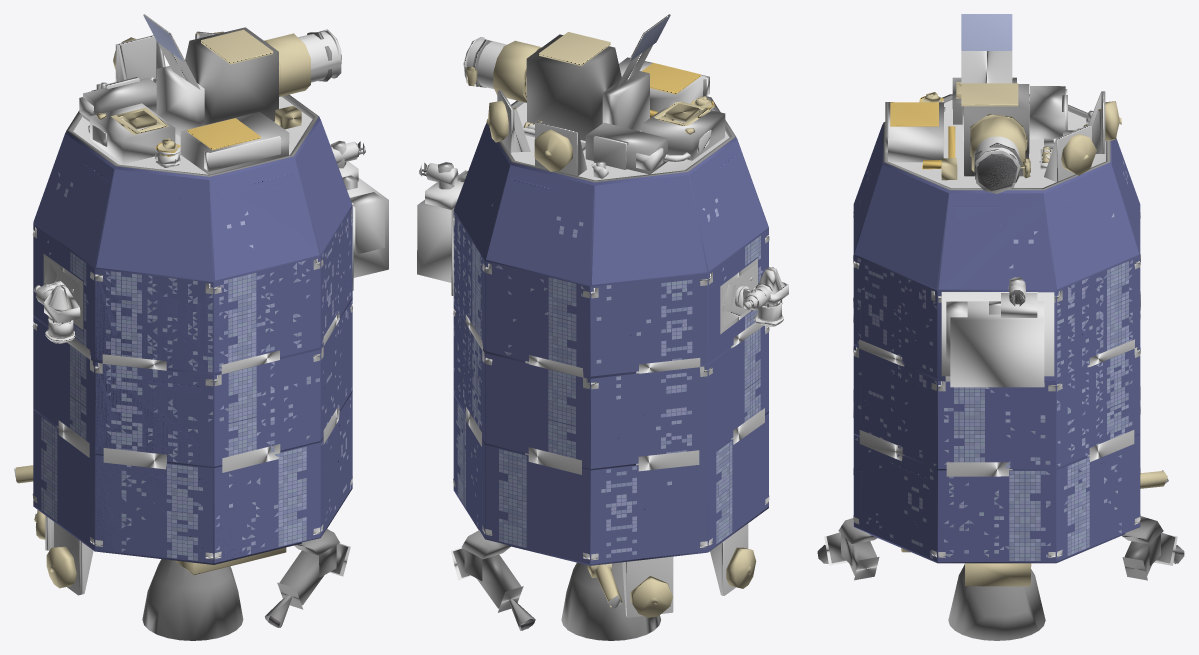
Rendered from ladee-probe.glb.
3 renders of one model, left to right at view 1: azimuth 30°, elevation 25°; view 2: azimuth 150°, elevation 25°; view 3: azimuth 270°, elevation 25°, orthographic. The views are drawn at different scales.
Parts seen in each view (by area): view 1: Fake; view 2: Fake; view 3: Fake.
Boxes of the visible parts, x1,y1,x2,y2 form: Fake: (14, 14, 388, 640); Fake: (417, 14, 788, 640); Fake: (817, 14, 1184, 640).
Bounding box in the file's own units: 1.39 × 2.4 × 1.36.
